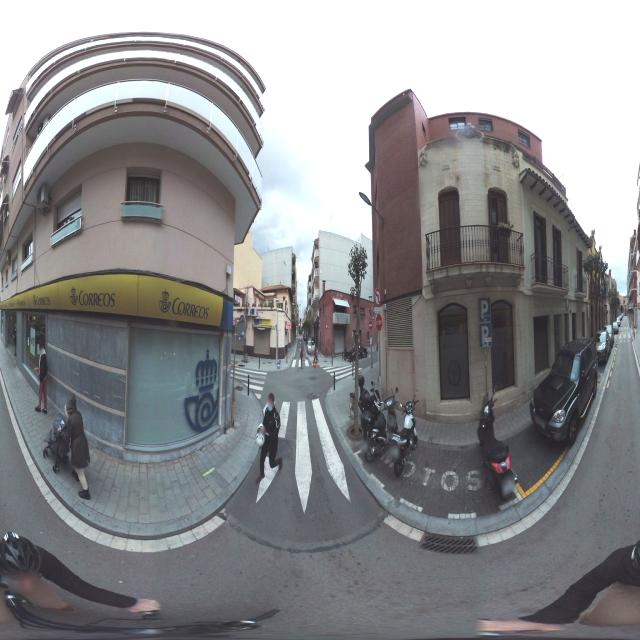bike: (355, 368, 418, 474), (475, 385, 517, 512)
car: (529, 338, 598, 445), (594, 330, 609, 364), (306, 340, 315, 354)
